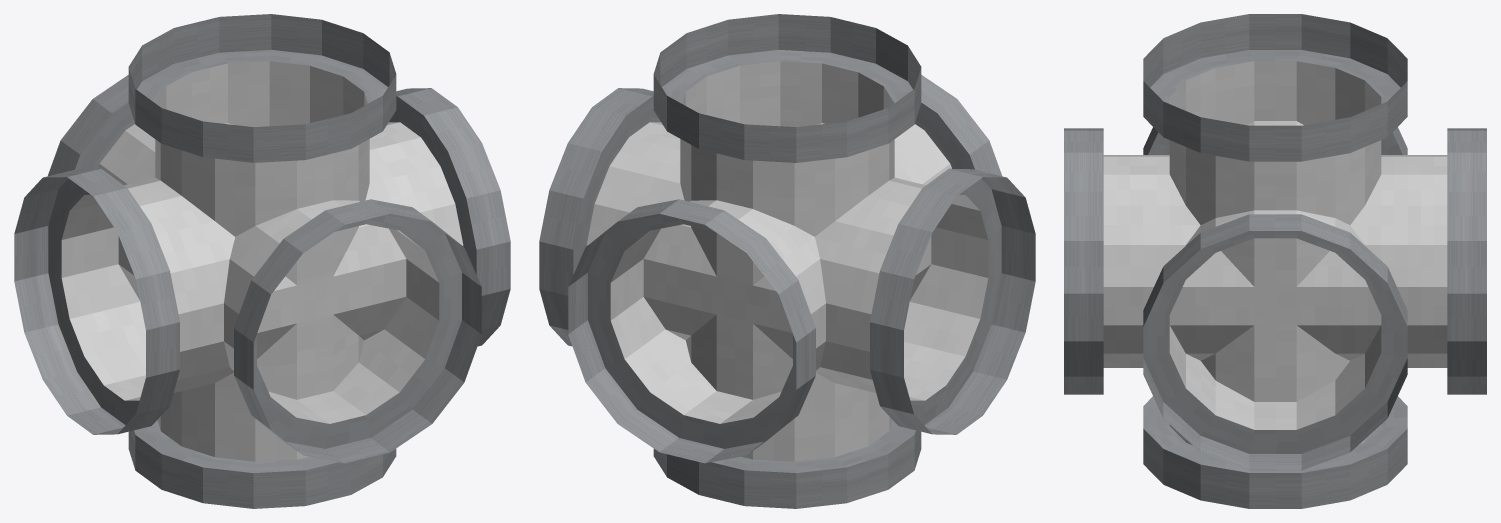
Rendered from connection_63.obj.
The picture shows the model from 3 angles, left to right: view 1: azimuth 30°, elevation 25°; view 2: azimuth 150°, elevation 25°; view 3: azimuth 270°, elevation 25°; orthographic projection.
Bounding box in the file's own units: 1 × 1 × 1.
